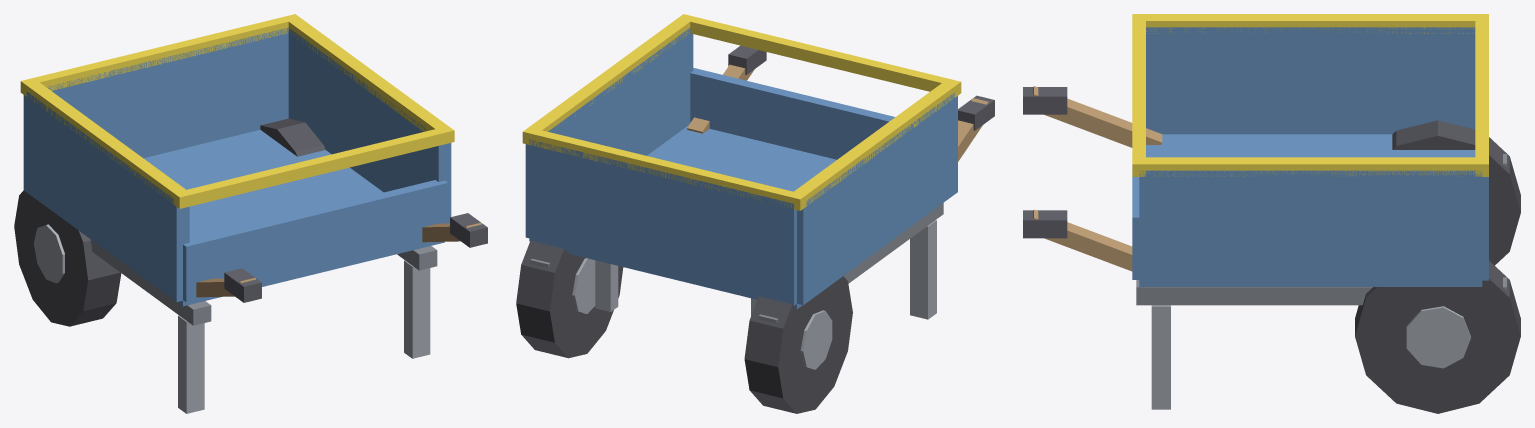
Rendered from dumper.glb.
3 views of the same model, side by side, from view 1: azimuth 30°, elevation 25°; view 2: azimuth 150°, elevation 25°; view 3: azimuth 270°, elevation 25° (orthographic). The views are drawn at different scales.
Visible parts, largest first — view 1: dumper; view 2: dumper; view 3: dumper.
Boxes of the visible parts, box(x1,y1,x2,y2) form: dumper: box(14, 14, 487, 413); dumper: box(516, 14, 994, 413); dumper: box(1023, 14, 1520, 413).
Size of the model in its own units: 1.25 by 0.985 by 1.75.
